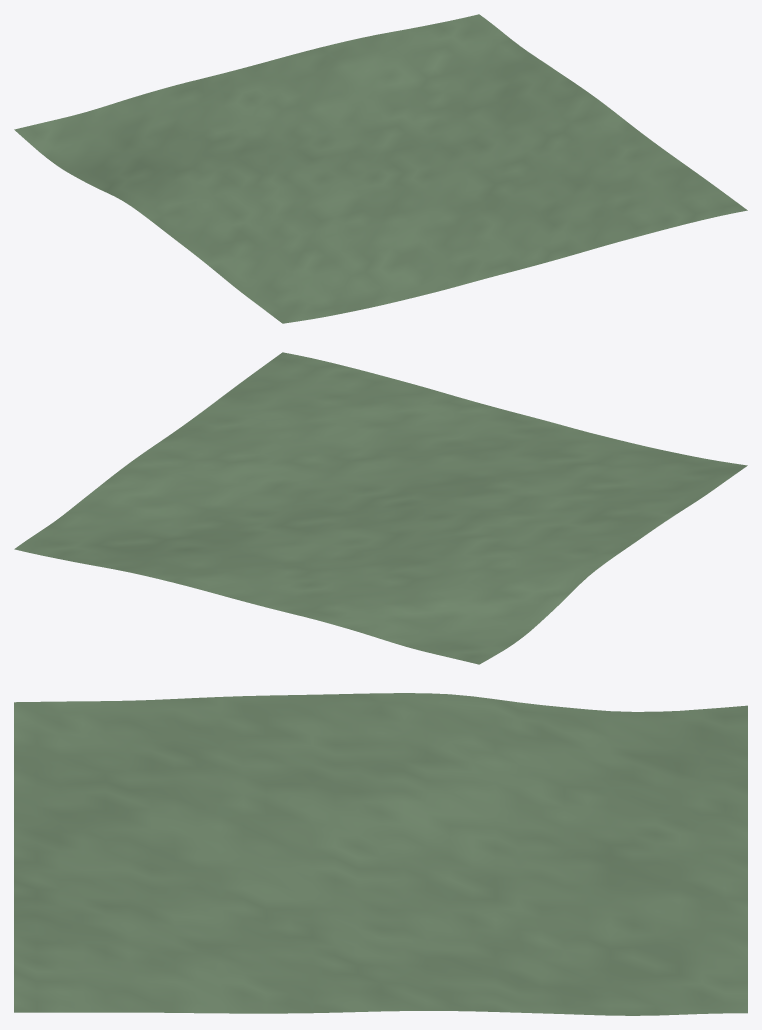
3 views of the same model, one above another, from view 1: azimuth 30°, elevation 25°; view 2: azimuth 150°, elevation 25°; view 3: azimuth 270°, elevation 25° (orthographic). The views are drawn at different scales.
Parts seen in each view (by area): view 1: Terrain-col; view 2: Terrain-col; view 3: Terrain-col.
Boxes of the visible parts, left/top/right/bottom form: Terrain-col: left=14, top=14, right=747, bottom=323; Terrain-col: left=14, top=352, right=747, bottom=664; Terrain-col: left=14, top=693, right=747, bottom=1015.
Bounding box in the file's own units: 256 × 7.27 × 256.
